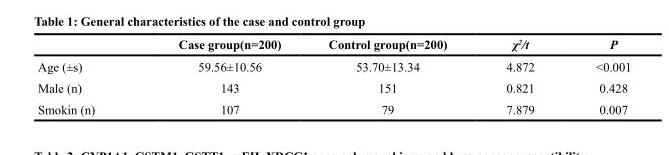table: (37, 36, 630, 115)
table column: (304, 36, 475, 115), (136, 36, 304, 115), (37, 36, 136, 115), (475, 36, 564, 115), (564, 36, 630, 115)
table column header: (37, 36, 630, 54)
table row: (37, 54, 630, 76), (37, 76, 630, 98), (37, 36, 630, 54), (37, 98, 630, 115)
